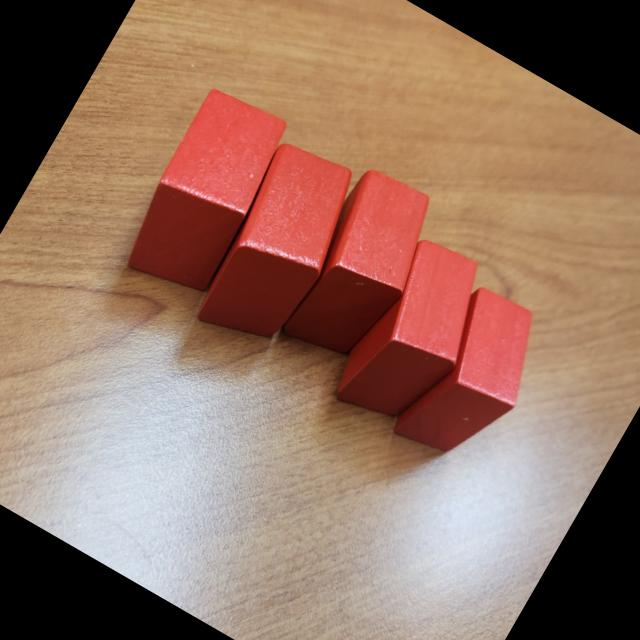red: (184, 132, 374, 362), (112, 82, 301, 309), (323, 228, 506, 444), (269, 160, 452, 376), (390, 282, 560, 480)
